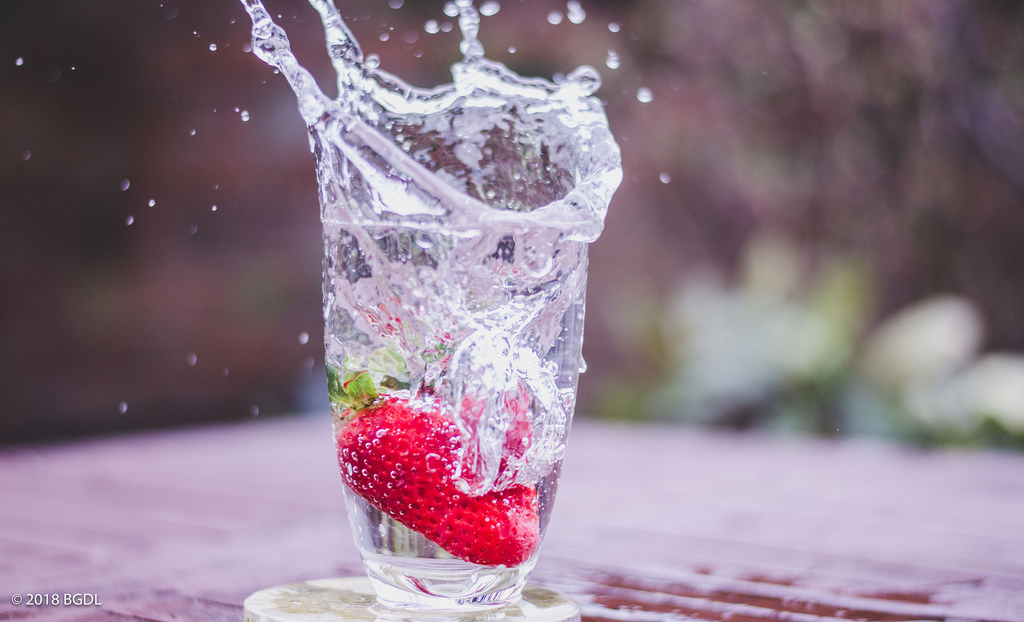glass of water: (332, 162, 560, 598)
